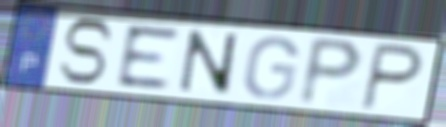E: (115, 23, 183, 90)
G: (240, 34, 302, 102)
N: (177, 27, 240, 98)
P: (295, 34, 367, 109), (358, 40, 427, 114)
S: (55, 17, 117, 87)
